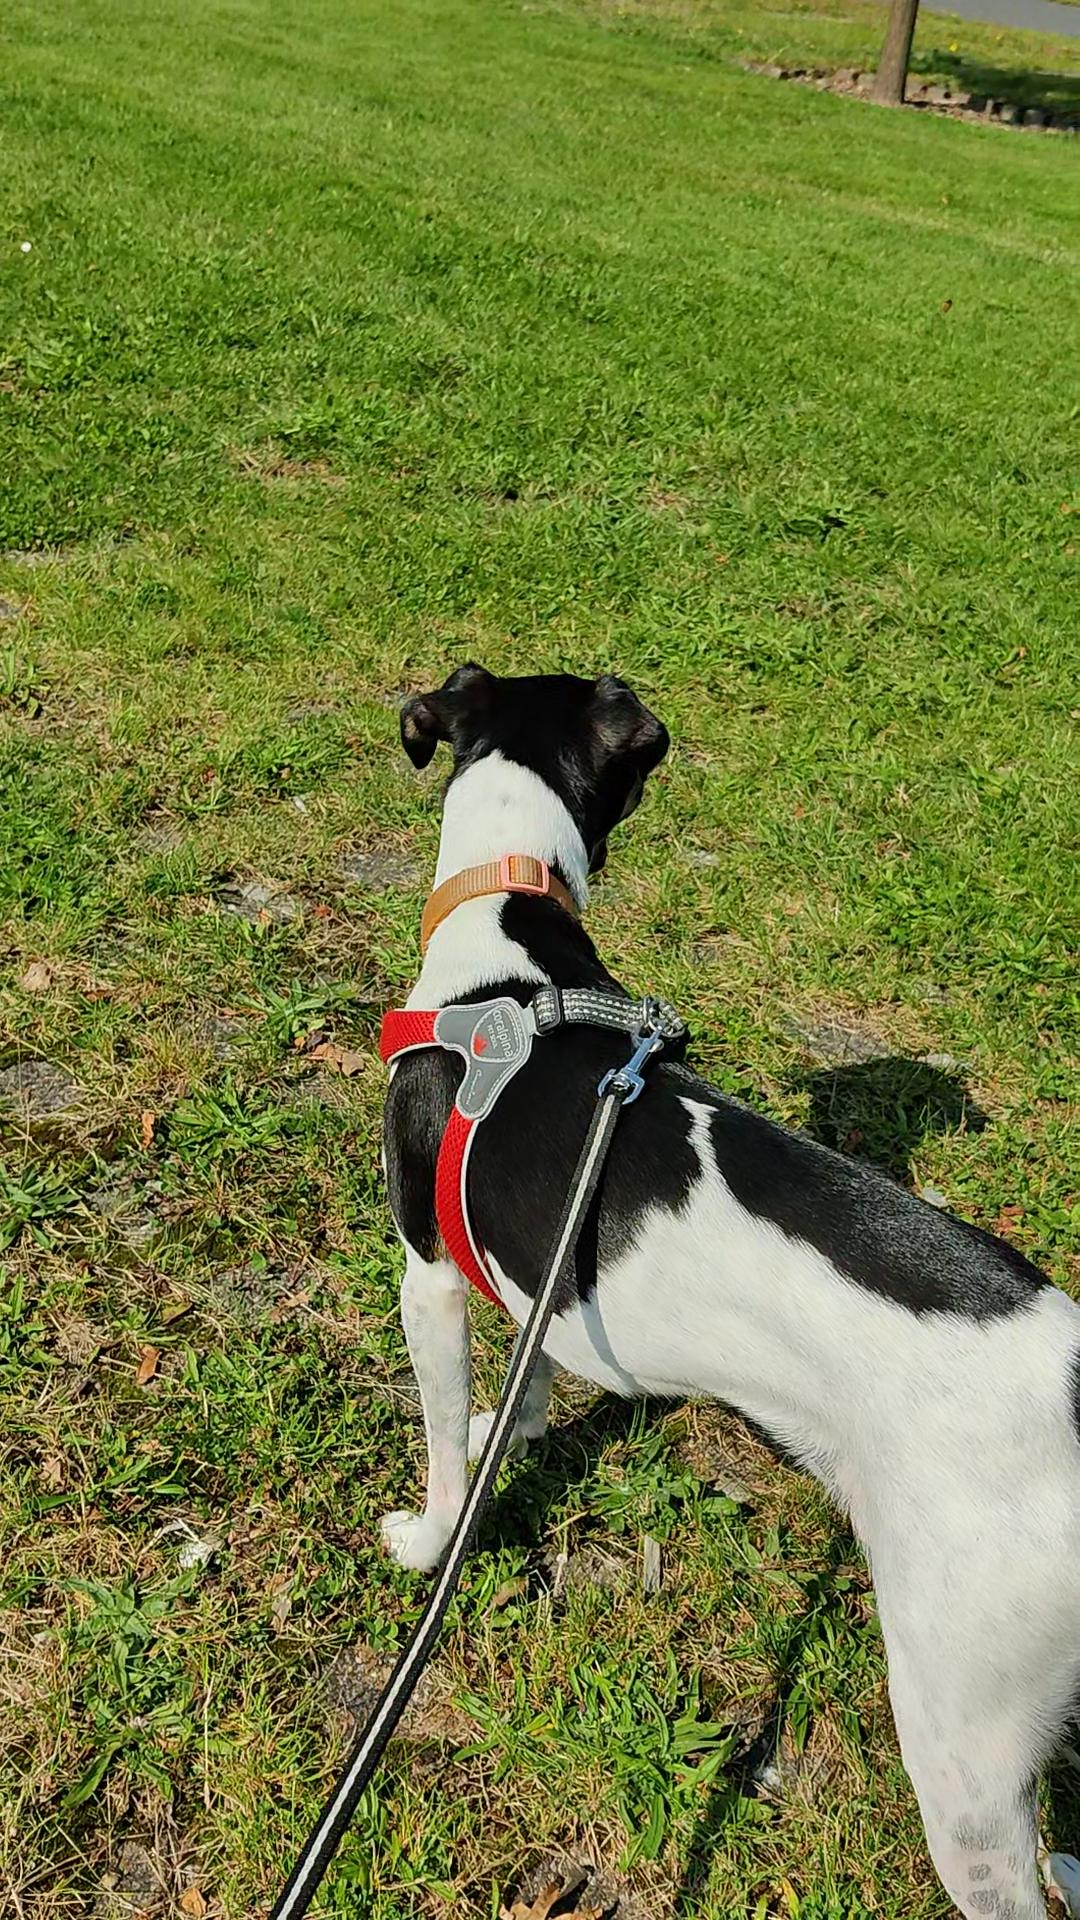Dog: (342, 647, 1079, 1919)
